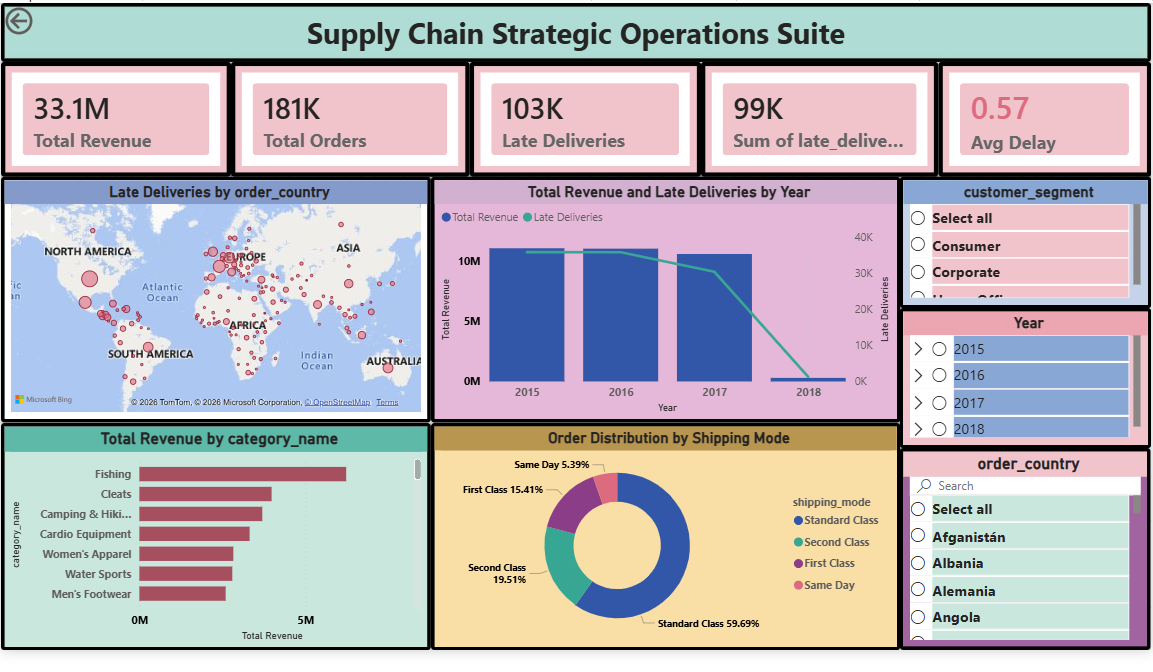

The dashboard page shown, as its layout file describes it:
{"tool":"powerbi","page":{"name":"Page 1","canvas":[1280,720],"ordinal":0},"visuals":[{"type":"textbox","box":[0,0,1280,65.4],"z":0},{"type":"cardVisual","fields":{"Data":["final_cleaned_supply_chain.Total Revenue"]},"box":[0,65.4,256,128],"z":1000},{"type":"cardVisual","fields":{"Data":["final_cleaned_supply_chain.Total Orders"]},"box":[256,65.4,265.7,128],"z":2000},{"type":"cardVisual","fields":{"Data":["final_cleaned_supply_chain.Late Deliveries"]},"box":[521.7,65.4,257.4,128],"z":3000},{"type":"cardVisual","fields":{"Data":["Sum(final_cleaned_supply_chain.late_delivery_risk)"]},"box":[779.1,65.4,264.3,128],"z":4000},{"type":"cardVisual","fields":{"Data":["final_cleaned_supply_chain.Avg Delay"]},"box":[1043.5,65.4,236.5,128],"z":5000},{"type":"map","fields":{"Size":["final_cleaned_supply_chain.Late Deliveries"],"Category":["final_cleaned_supply_chain.order_country"]},"box":[0,193.5,478.5,273.5],"z":6000},{"type":"actionButton","box":[0,0,100,40],"z":7000},{"type":"lineStackedColumnComboChart","fields":{"Y2":["final_cleaned_supply_chain.Late Deliveries"],"Y":["final_cleaned_supply_chain.Total Revenue"],"Category":["final_cleaned_supply_chain.order_date_dateorders.Variation.Date Hierarchy.Year","final_cleaned_supply_chain.order_date_dateorders.Variation.Date Hierarchy.Month"]},"box":[478.5,193.5,522.2,273.5],"z":8000},{"type":"clusteredBarChart","fields":{"Category":["final_cleaned_supply_chain.category_name"],"Y":["final_cleaned_supply_chain.Total Revenue"]},"box":[0,466.9,478.5,253.1],"z":9000},{"type":"donutChart","title":"Order Distribution by Shipping Mode","fields":{"Category":["final_cleaned_supply_chain.shipping_mode"],"Y":["final_cleaned_supply_chain.Total Orders"]},"box":[479,467,522,253],"z":9001},{"type":"listSlicer","fields":{"Values":["final_cleaned_supply_chain.customer_segment"]},"box":[1000.3,193.4,279.7,146.1],"z":9002},{"type":"listSlicer","fields":{"Values":["final_cleaned_supply_chain.order_date_dateorders.Variation.Date Hierarchy.Year","final_cleaned_supply_chain.order_date_dateorders.Variation.Date Hierarchy.Quarter","final_cleaned_supply_chain.order_date_dateorders.Variation.Date Hierarchy.Month","final_cleaned_supply_chain.order_date_dateorders.Variation.Date Hierarchy.Day"]},"box":[1000.3,339.5,279.7,155.8],"z":9003},{"type":"listSlicer","fields":{"Values":["final_cleaned_supply_chain.order_country"]},"box":[1001,495,279,225],"z":9004}]}

Visuals, with their boxes in screenshot pixels (x1, y1, x2, y2):
textbox: left=3, top=3, right=1140, bottom=61
cardVisual - final_cleaned_supply_chain.Total Revenue: left=3, top=61, right=230, bottom=175
cardVisual - final_cleaned_supply_chain.Total Orders: left=230, top=61, right=466, bottom=175
cardVisual - final_cleaned_supply_chain.Late Deliveries: left=466, top=61, right=695, bottom=175
cardVisual - Sum(final_cleaned_supply_chain.late_delivery_risk): left=695, top=61, right=930, bottom=175
cardVisual - final_cleaned_supply_chain.Avg Delay: left=930, top=61, right=1140, bottom=175
map - final_cleaned_supply_chain.Late Deliveries x final_cleaned_supply_chain.order_country: left=3, top=175, right=428, bottom=418
actionButton: left=3, top=3, right=92, bottom=39
lineStackedColumnComboChart - final_cleaned_supply_chain.Late Deliveries x final_cleaned_supply_chain.Total Revenue: left=428, top=175, right=892, bottom=418
clusteredBarChart - final_cleaned_supply_chain.category_name x final_cleaned_supply_chain.Total Revenue: left=3, top=418, right=428, bottom=643
"Order Distribution by Shipping Mode" donutChart: left=429, top=418, right=892, bottom=643
listSlicer - final_cleaned_supply_chain.customer_segment: left=892, top=175, right=1140, bottom=305
listSlicer - final_cleaned_supply_chain.order_date_dateorders.Variation.Date Hierarchy.Year x final_cleaned_supply_chain.order_date_dateorders.Variation.Date Hierarchy.Quarter: left=892, top=305, right=1140, bottom=443
listSlicer - final_cleaned_supply_chain.order_country: left=892, top=443, right=1140, bottom=643
